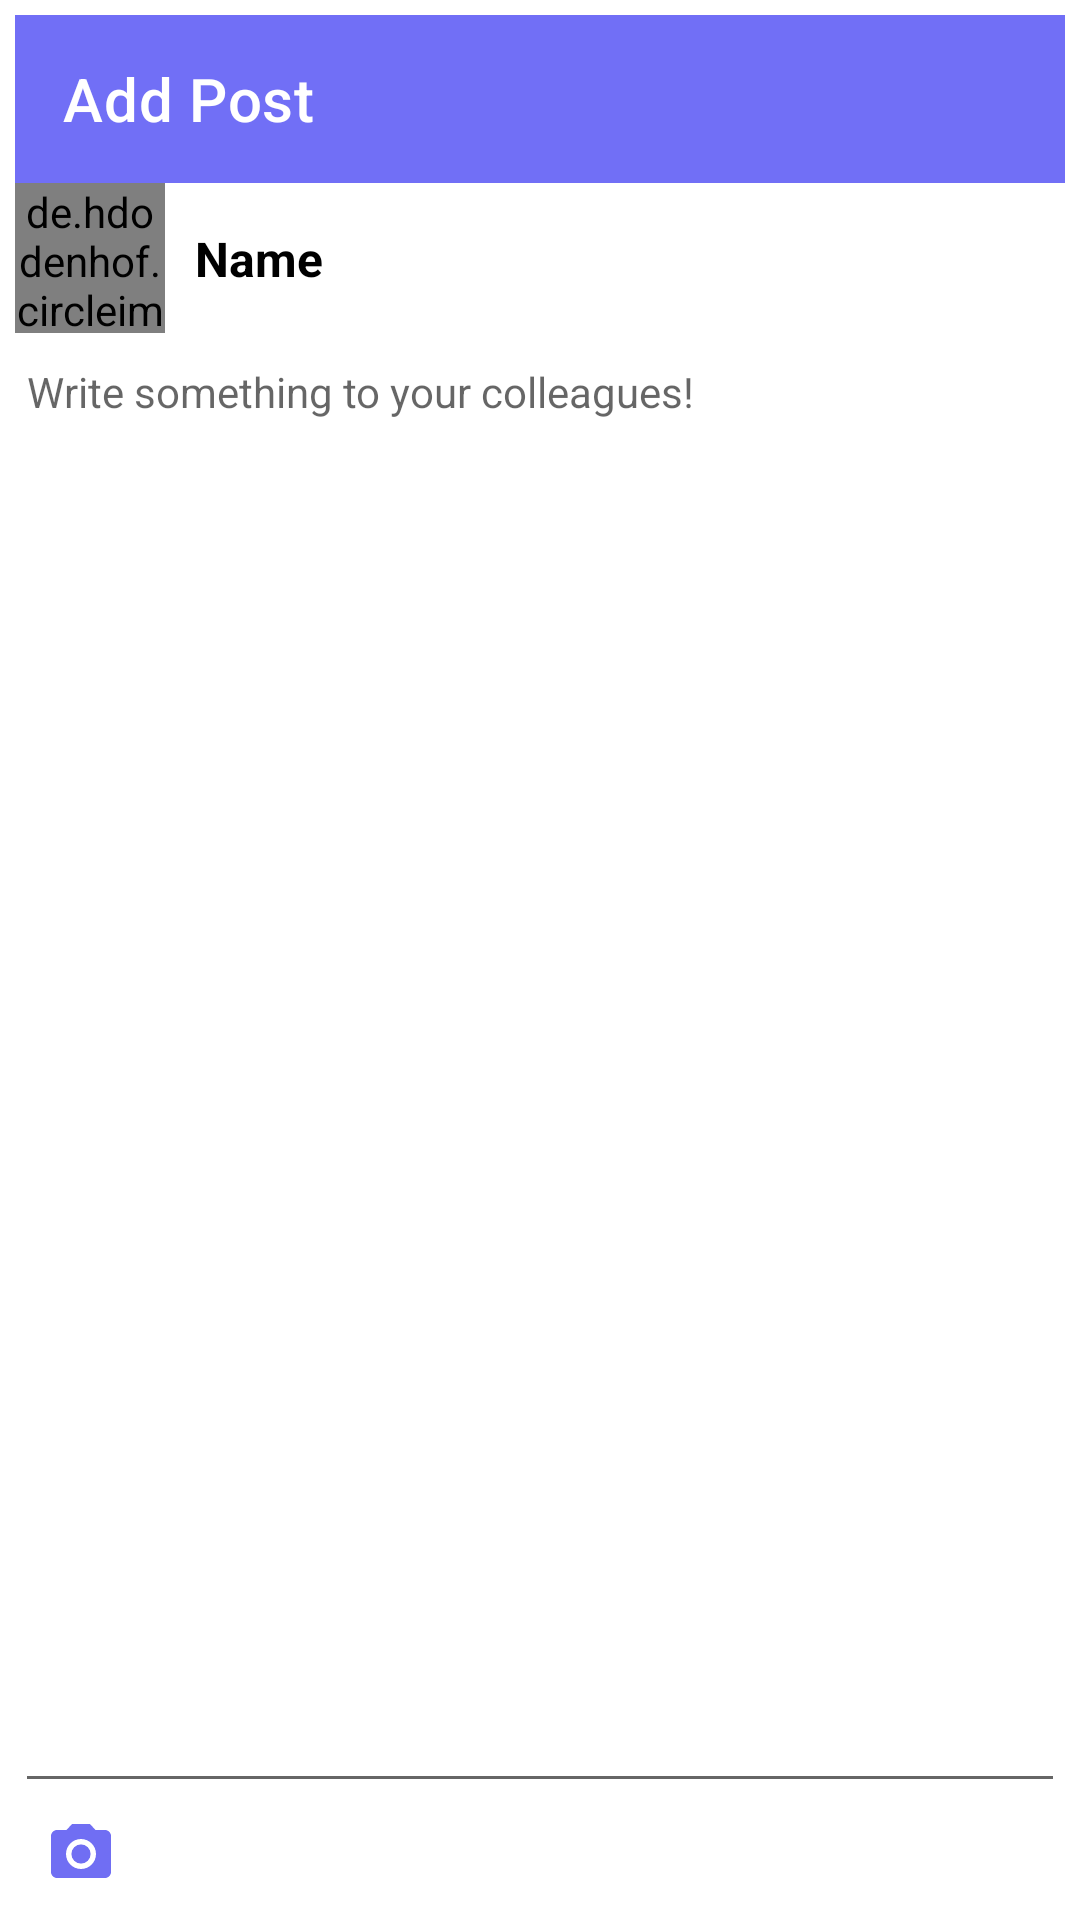

Screen size 1080x1920. Icon name, then its box in pixels as (x1, y1, x2, y2):
camera: (51, 1824, 111, 1878)
